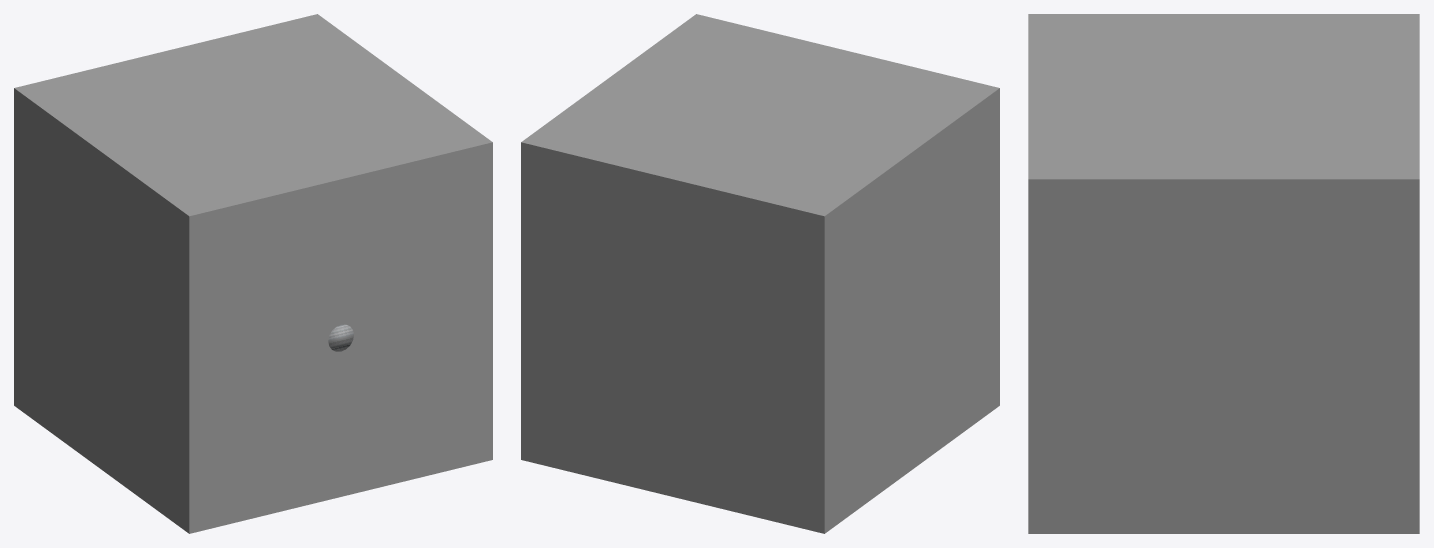
The model's file is Generator.obj.
3 renders of one model, left to right at view 1: azimuth 30°, elevation 25°; view 2: azimuth 150°, elevation 25°; view 3: azimuth 270°, elevation 25°, orthographic. The views are drawn at different scales.
Visible parts, largest first — view 1: Minecraft_Block_Cube.001, Shaft; view 2: Minecraft_Block_Cube.001; view 3: Minecraft_Block_Cube.001.
Part boxes in pixels (left/top/right/bottom): Minecraft_Block_Cube.001: left=14, top=14, right=492, bottom=533; Shaft: left=328, top=324, right=353, bottom=351; Minecraft_Block_Cube.001: left=521, top=14, right=999, bottom=533; Minecraft_Block_Cube.001: left=1028, top=14, right=1419, bottom=533.
Bounding box in the file's own units: 1 × 1 × 1.
5 materials, 3 textured.
